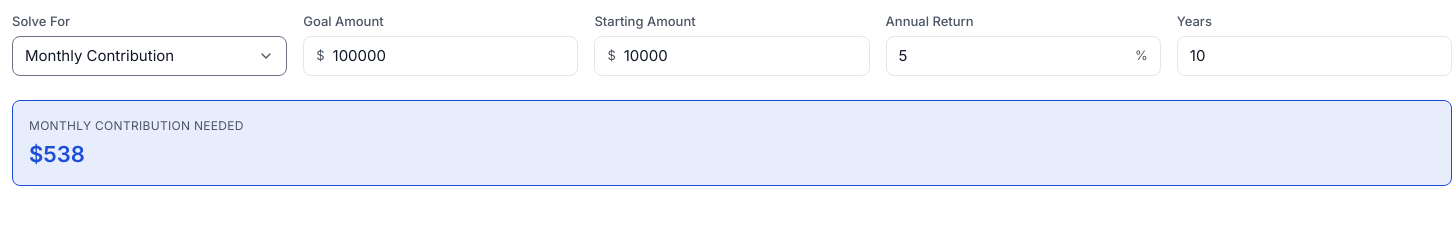
Test: SavingsGoalCalculator › solves months and formats as years + months
The image size is (1452, 240).
Click the button named "Solve For": (150, 56) [12, 36, 287, 76]
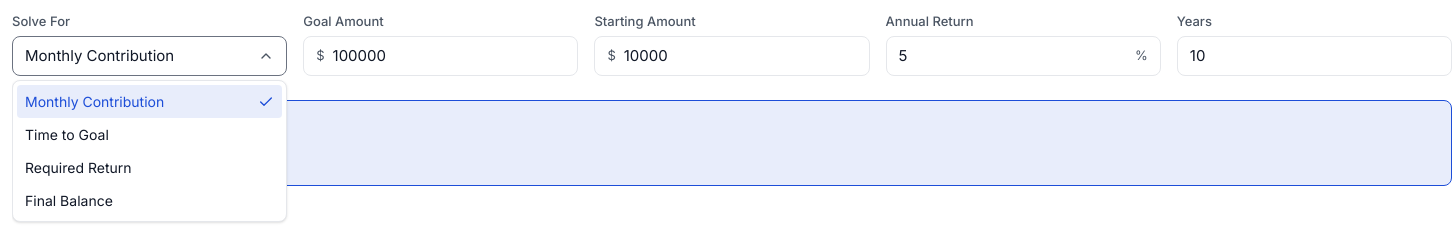
Click the option "Time to Goal": (67, 134) [17, 118, 282, 151]
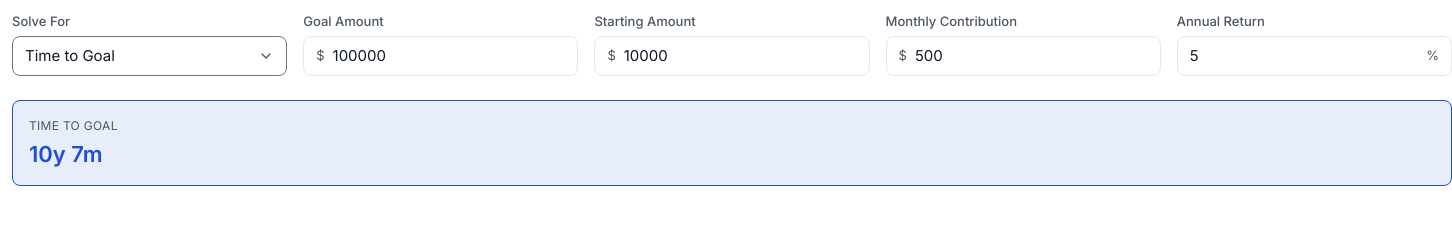
Replace the text in the field labelled "Goal Amount" with "2200": (449, 56) [332, 44, 565, 67]
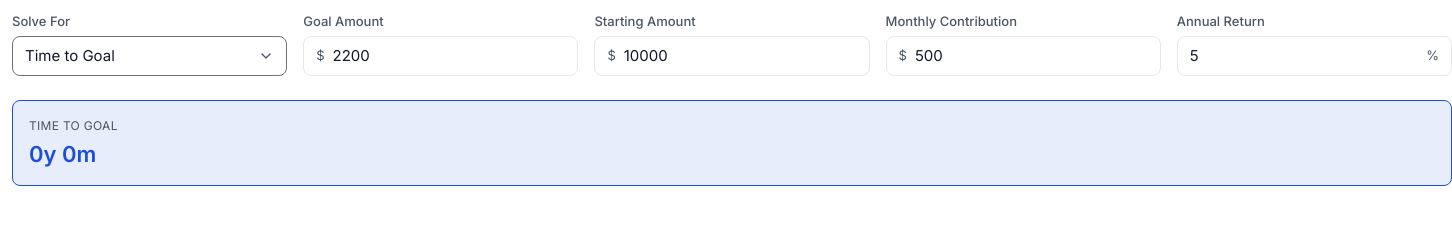
Replace the text in the field labelled "Starting Amount" with "1000": (740, 56) [624, 44, 857, 67]
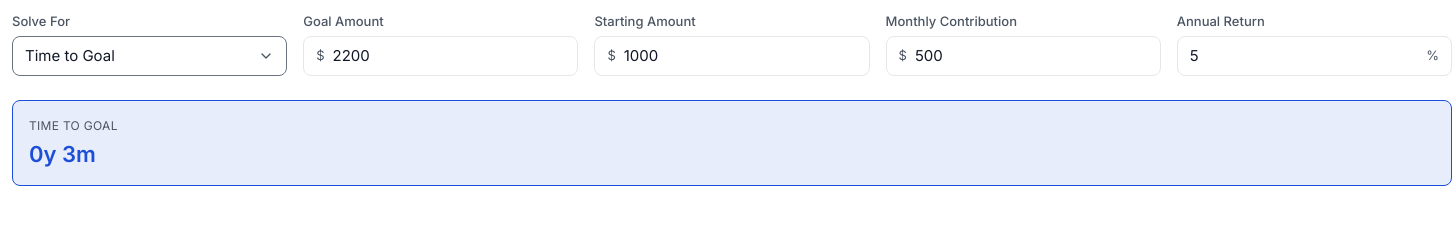
Replace the text in the field labelled "Annual Return" with "0": (1304, 56) [1190, 44, 1418, 67]
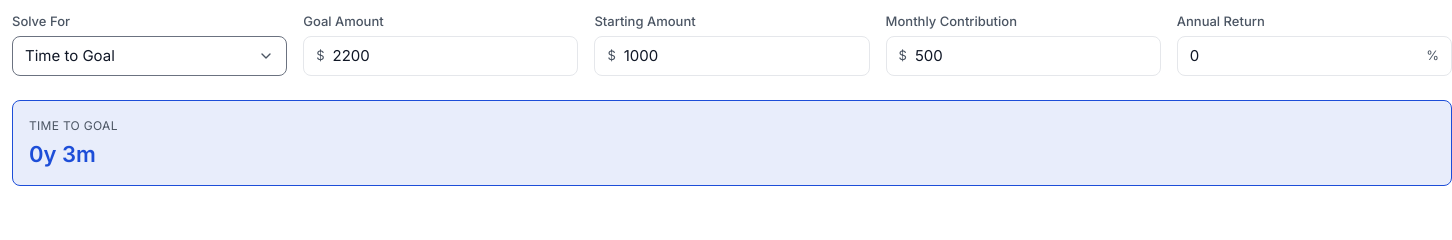
Replace the text in the field labelled "Monthly Contribution" with "100": (1031, 56) [915, 44, 1148, 67]
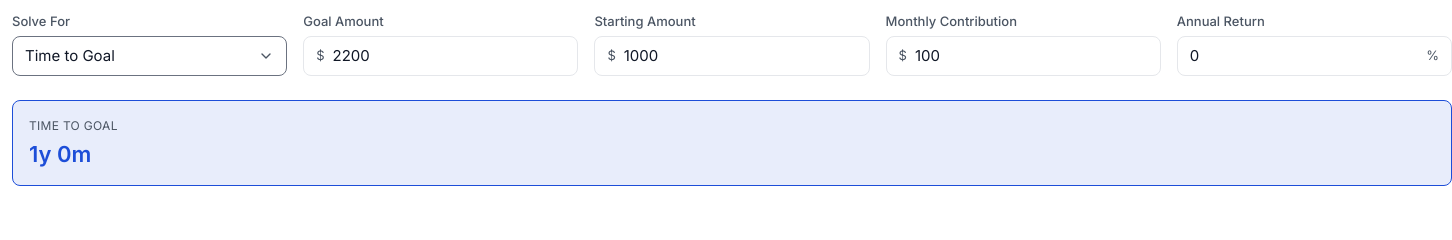
Expected: the text "1y 0m" is shown, [29, 141, 91, 167]
